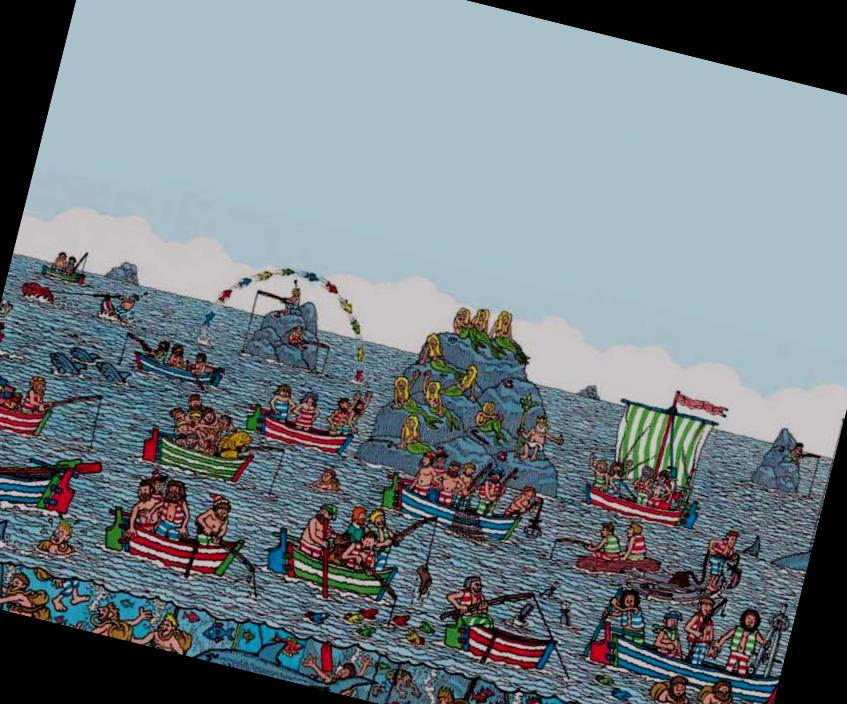waldo: (431, 445, 452, 469)
